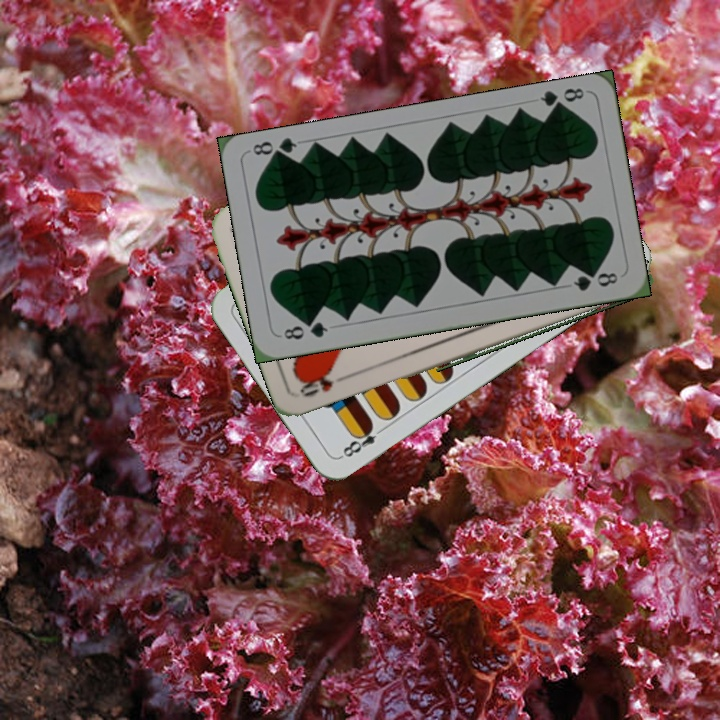E8: (336, 419, 389, 461)
G8: (536, 84, 587, 115), (279, 317, 331, 343)
HO: (296, 369, 353, 400)
